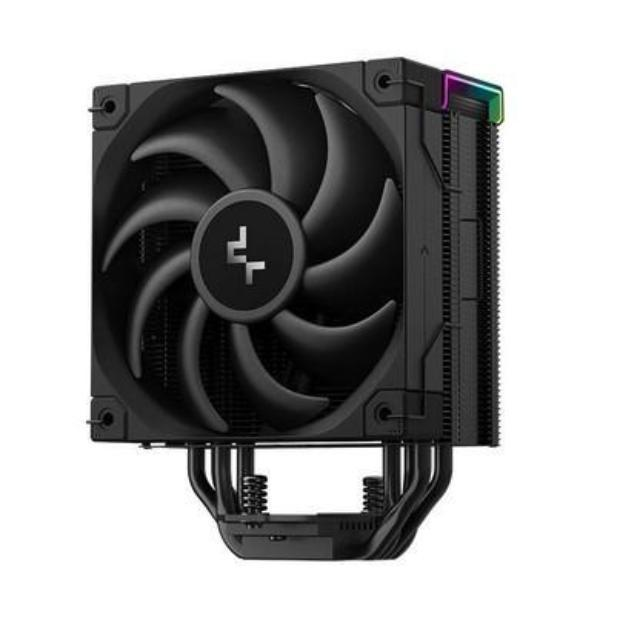CPU_Fan: (81, 53, 513, 576)
